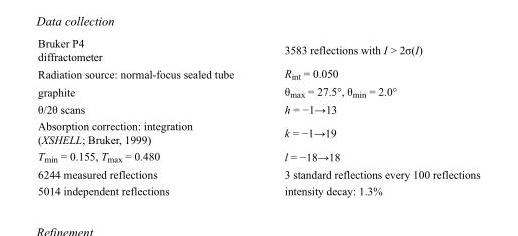table: (37, 36, 479, 196)
table column: (37, 36, 258, 196), (258, 36, 479, 196)
table row: (37, 117, 479, 147), (37, 36, 479, 64), (37, 64, 479, 82), (37, 82, 479, 100), (37, 147, 479, 165), (37, 100, 479, 117), (37, 165, 479, 182), (37, 182, 479, 196)
